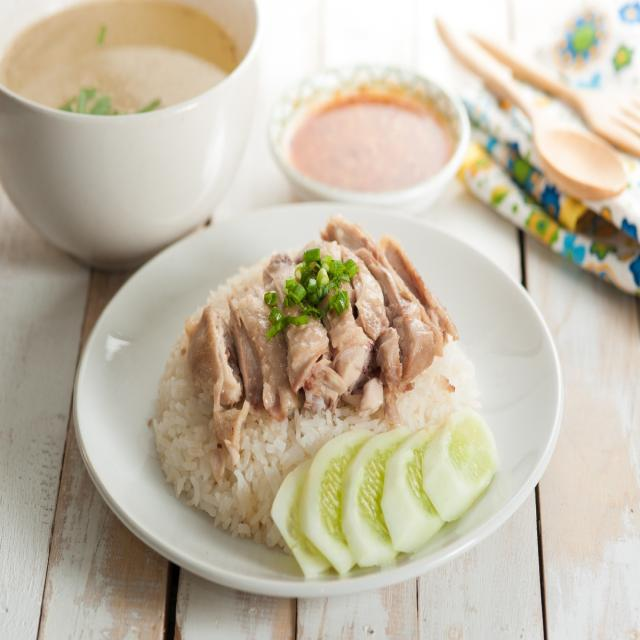Carbohydrate: (151, 248, 483, 552)
Kaow-Mankai: (76, 208, 564, 602)
Protein: (188, 214, 459, 426)
Vegetable: (269, 413, 500, 579), (263, 248, 357, 337)
